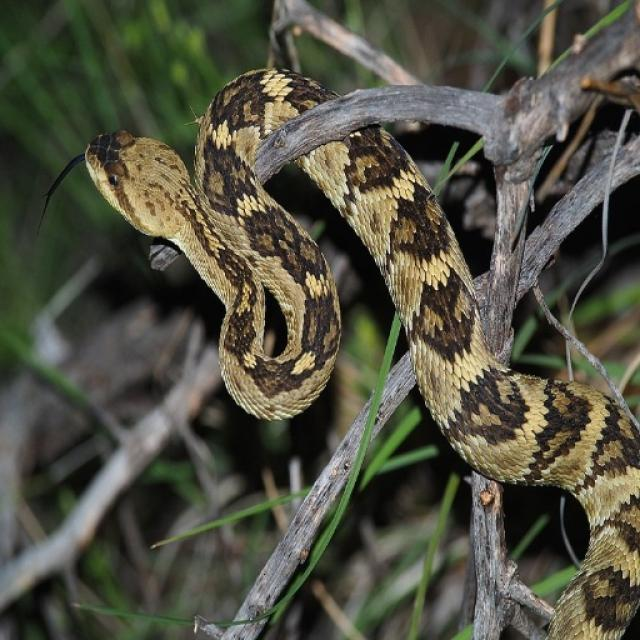snake: (64, 64, 640, 637)
